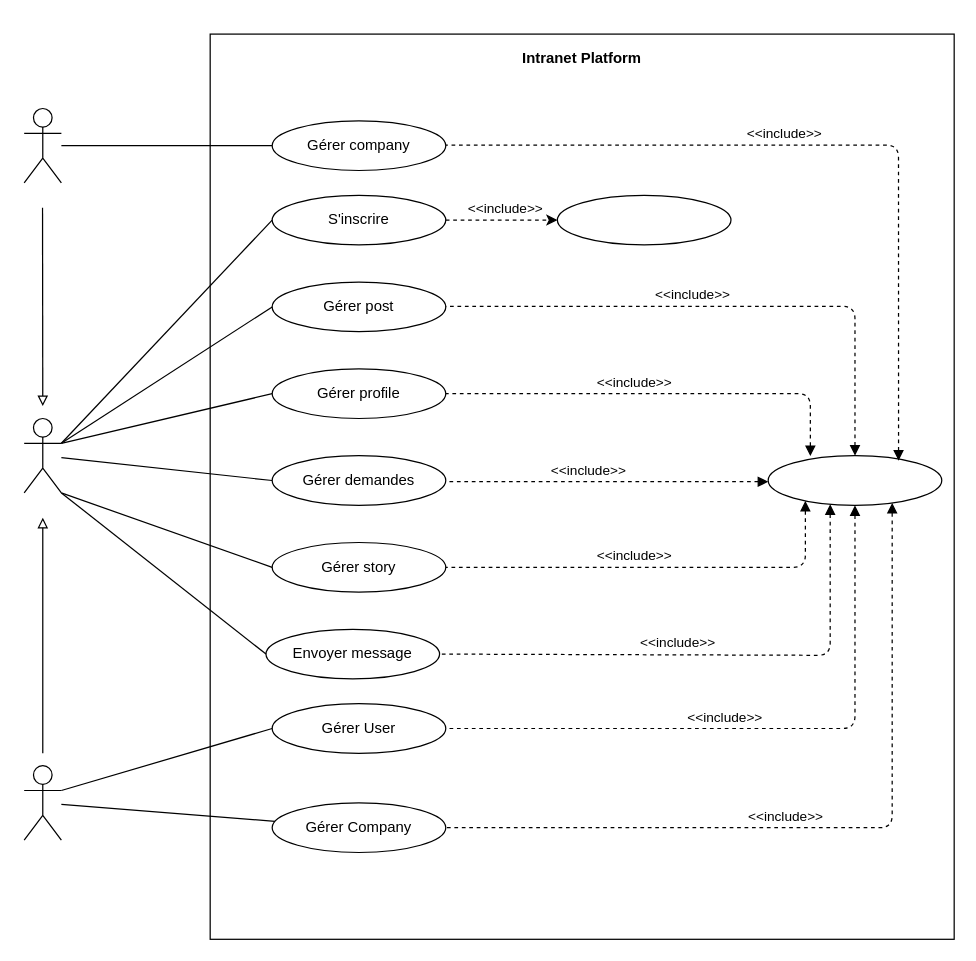
The diagram is 976 pixels wide and 961 high, and some of its shapes have lost their labels. The shapes that lost their labels are listed below. From the top down, each one's centre as x and y in pixels, then its label:
(x=42, y=145): Owner
(x=643, y=219): Verifier Email
(x=42, y=455): User
(x=854, y=479): S'authentifier
(x=42, y=802): Admin
